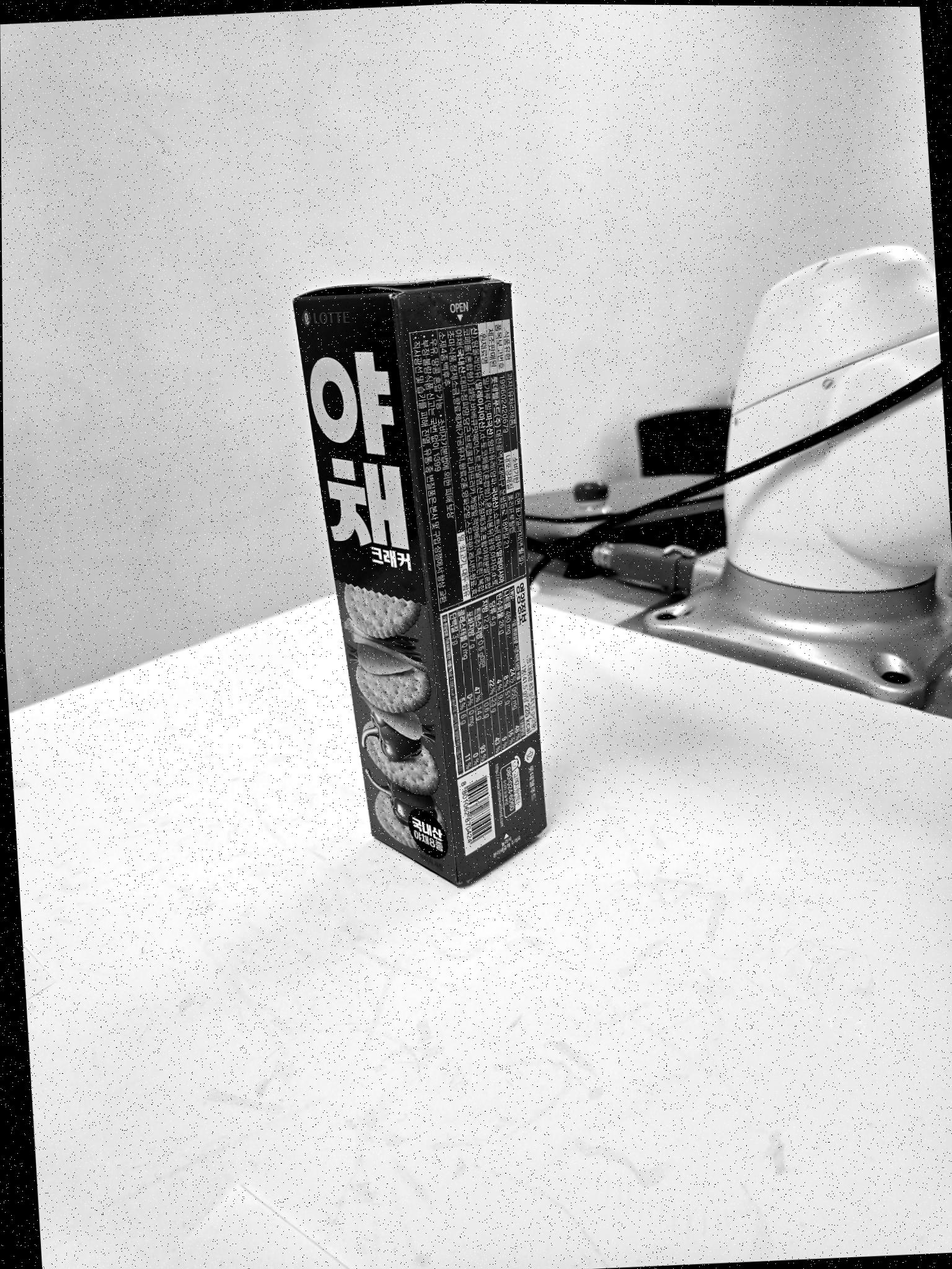cracker_vege: (293, 276, 546, 885)
